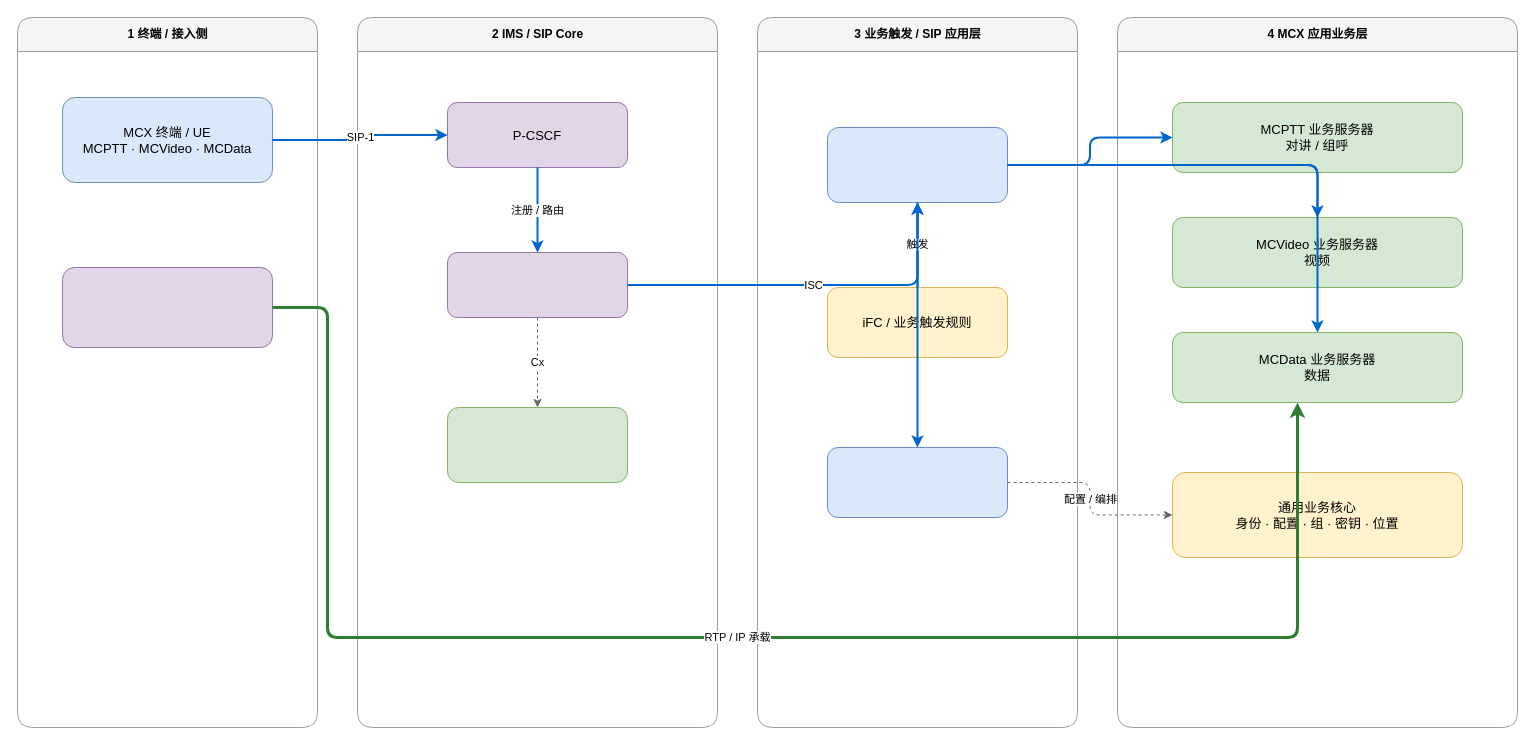
The diagram is 1535 pixels wide and 745 high, and some of its shapes have lost their labels. The centre of each missing label's shape, as x and y in pixels:
EPS / 分组核心网 IP 承载 · QoS: [167,307]
HSS / UDM 用户数据 · 鉴权: [537,444]
MCX 业务编排逻辑: [917,482]
S-CSCF: [537,285]
SIP AS 应用信令服务器: [917,164]
